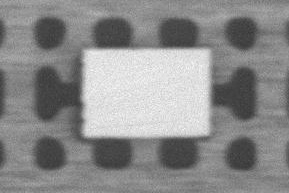DIE_CRACK: (133, 81, 262, 85)
